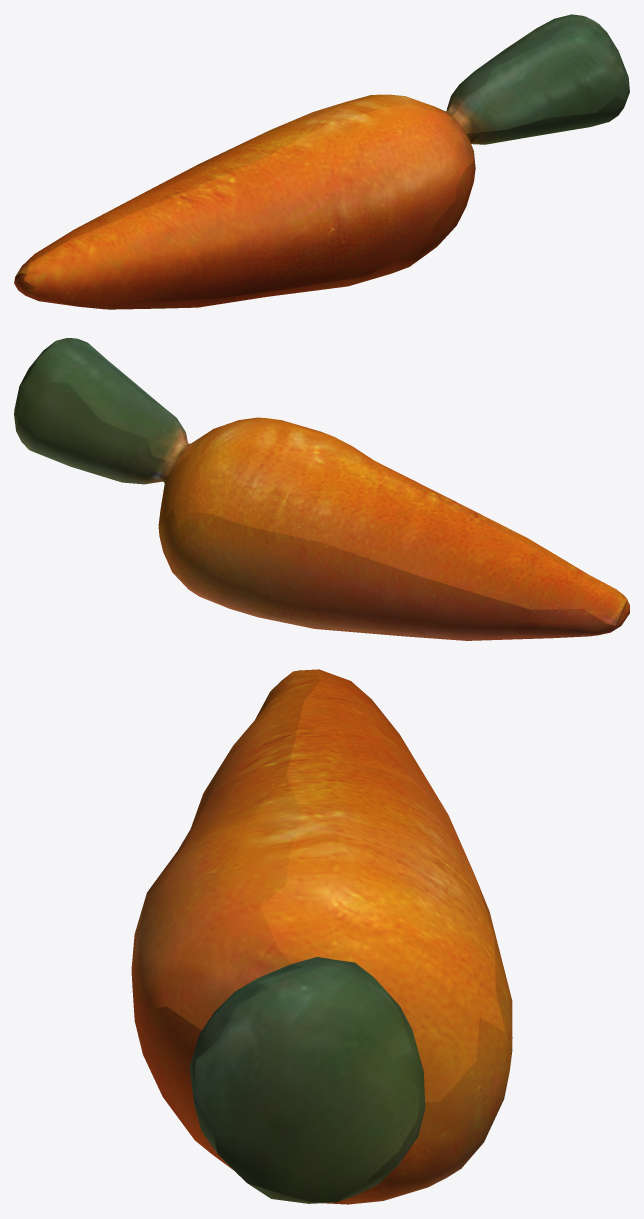
File: bridge_carrot_generated_modified.fbx
3 views of the same model, one above another, from view 1: azimuth 30°, elevation 25°; view 2: azimuth 150°, elevation 25°; view 3: azimuth 270°, elevation 25° (orthographic). The views are drawn at different scales.
Parts seen in each view (by area): view 1: geometry_0; view 2: geometry_0; view 3: geometry_0.
Boxes of the visible parts, <box> form: geometry_0: <box>14,14,629,309</box>; geometry_0: <box>14,338,629,640</box>; geometry_0: <box>131,669,512,1204</box>.
Bounding box in the file's own units: 0.115 × 0.038 × 0.032.
1 material, 1 textured.
